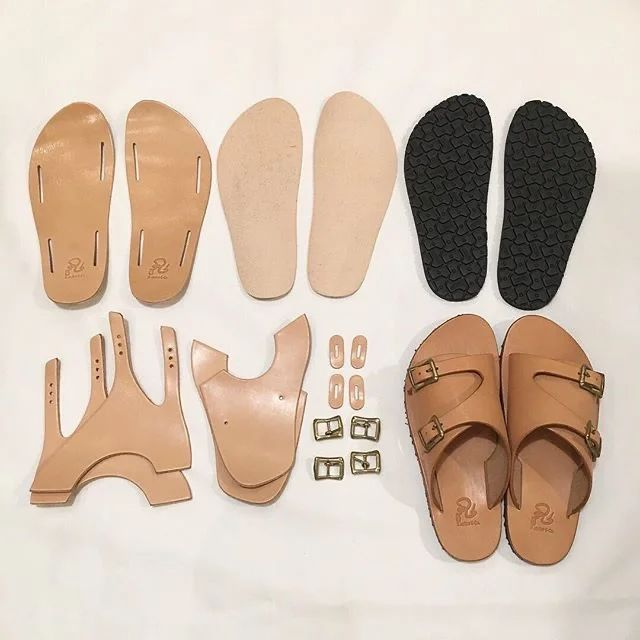cuero: (406, 314, 604, 567)
